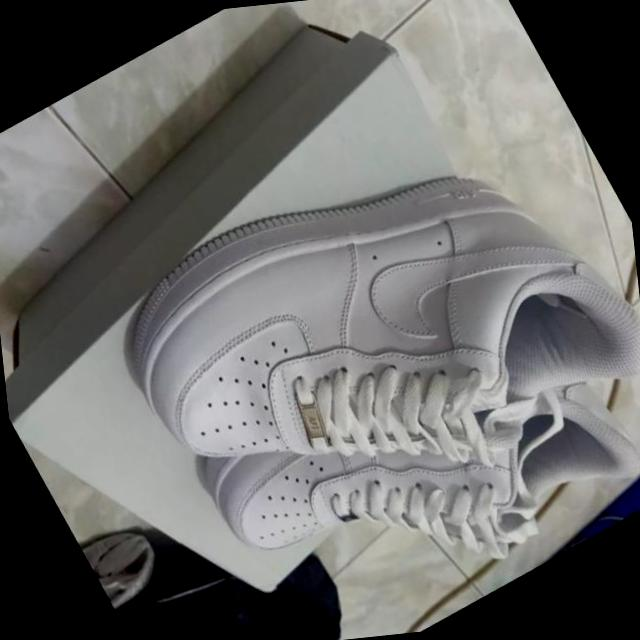nike_original_airforce: (71, 63, 640, 606), (175, 260, 640, 640)
